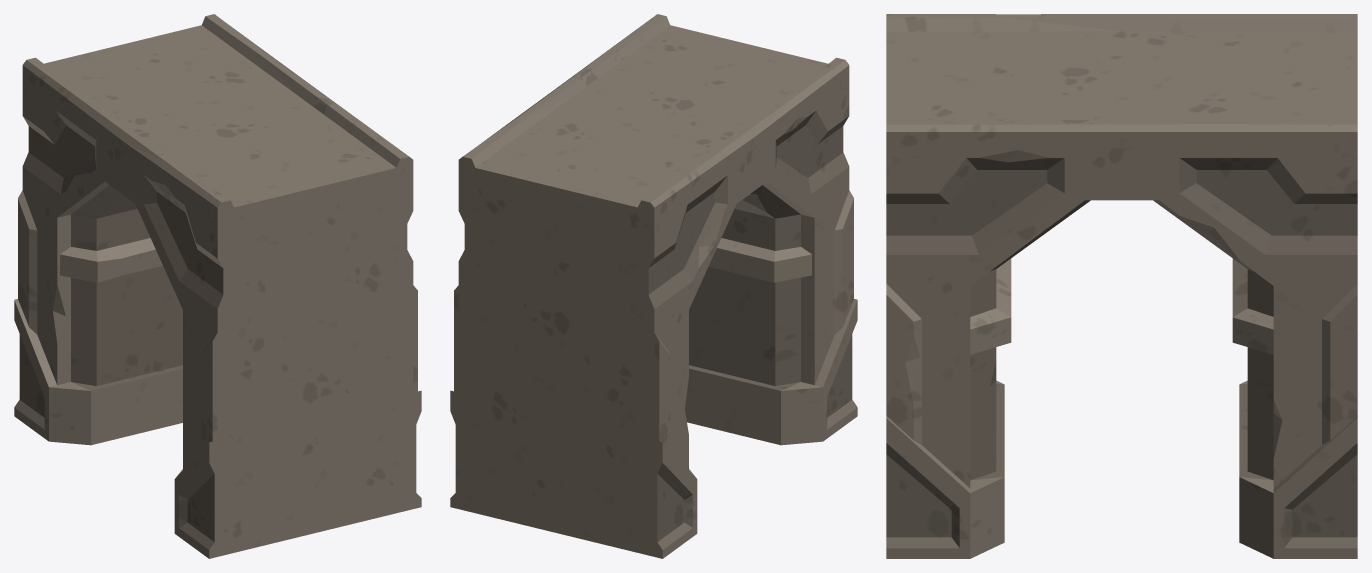
Rendered from bridge.glb.
3 renders of one model, left to right at view 1: azimuth 30°, elevation 25°; view 2: azimuth 150°, elevation 25°; view 3: azimuth 270°, elevation 25°, orthographic. The views are drawn at different scales.
Parts seen in each view (by area): view 1: SM_Env_Dwarf_Bridge_01; view 2: SM_Env_Dwarf_Bridge_01; view 3: SM_Env_Dwarf_Bridge_01.
Part boxes in pixels (x1=…): SM_Env_Dwarf_Bridge_01: x1=14, y1=14, x2=421, y2=558; SM_Env_Dwarf_Bridge_01: x1=450, y1=14, x2=857, y2=558; SM_Env_Dwarf_Bridge_01: x1=886, y1=14, x2=1357, y2=558.
Size of the model in its own units: 6.29 by 10 by 10.
1 material, 1 textured.
